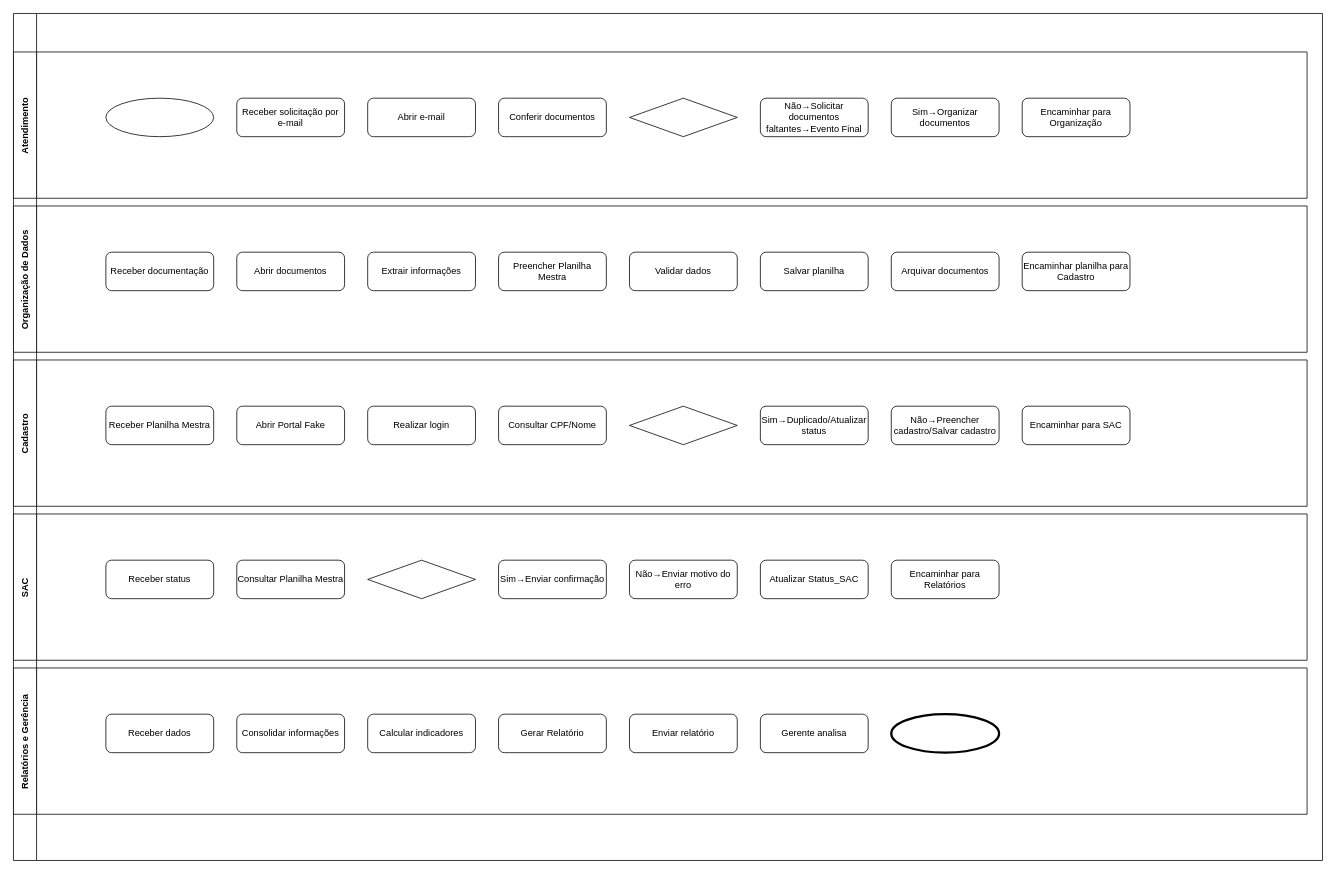
Image size: 1336x874. Some labels were removed from this diagram. Each missing label, with the centre of its shape:
Evento Final: pixel 945 733
Evento Inicial: pixel 159 117
XOR: Cadastro realizado com sucesso?: pixel 421 579
XOR: Cliente já cadastrado?: pixel 683 425
XOR: Documentação completa?: pixel 683 117
